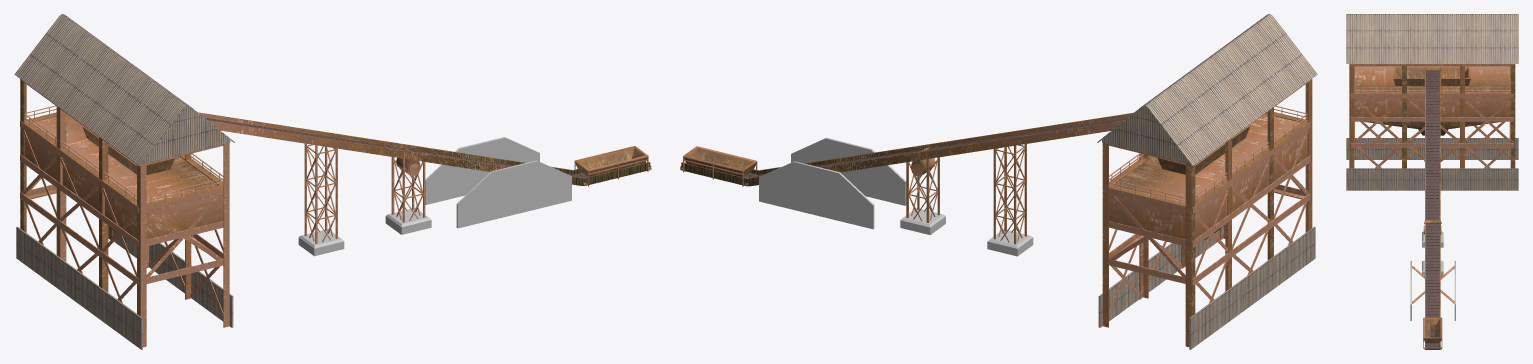
File: rock_crusher_export.dae
3 views of the same model, side by side, from view 1: azimuth 30°, elevation 25°; view 2: azimuth 150°, elevation 25°; view 3: azimuth 270°, elevation 25° (orthographic). The views are drawn at different scales.
Visible parts, largest first — view 1: Mesh; view 2: Mesh; view 3: Mesh.
Part boxes in pixels (x1,y1,x2,y2): Mesh: (14, 14, 651, 349); Mesh: (680, 14, 1317, 349); Mesh: (1346, 14, 1518, 349).
Bounding box in the file's own units: 37.9 × 14.95 × 14.4.
